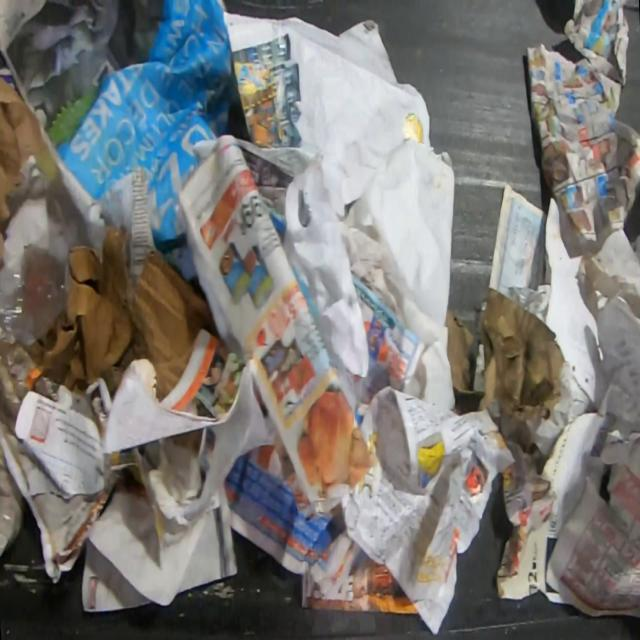cardboard: (25, 226, 221, 402), (444, 287, 564, 422)
rigid_plastic: (0, 229, 65, 351)
